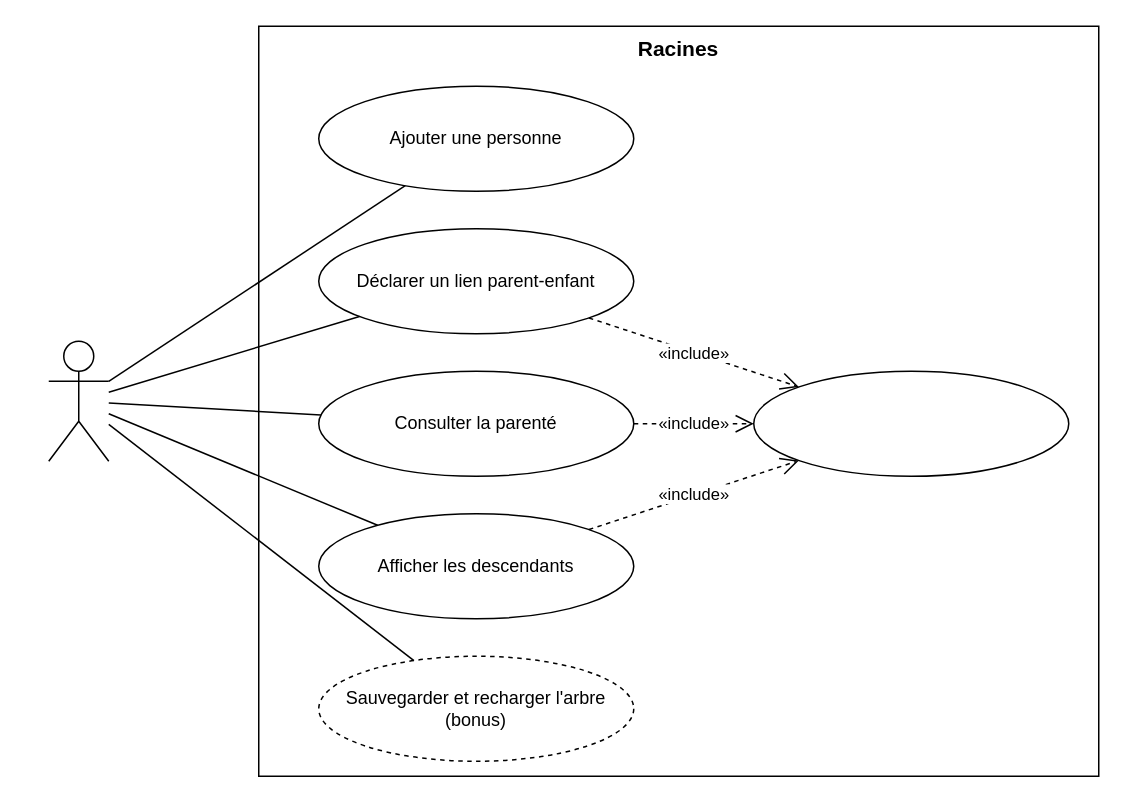
The diagram is 1125 pixels wide and 803 high, and some of its shapes have lost their labels. Here are the shapes that lost their labels. From the top down, the box of each, then its label:
(47, 340, 109, 461): Généalogiste
(752, 370, 1069, 476): Rechercher une personne
